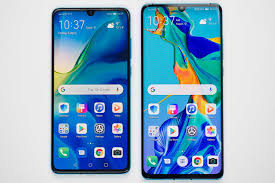huawei: (140, 1, 223, 179), (49, 3, 132, 174)
